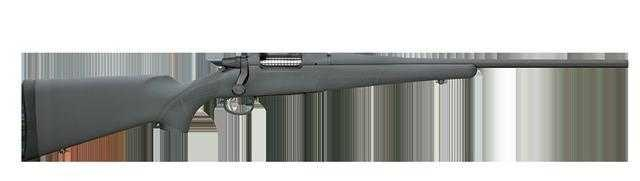heavyweapon: (10, 47, 631, 163)
